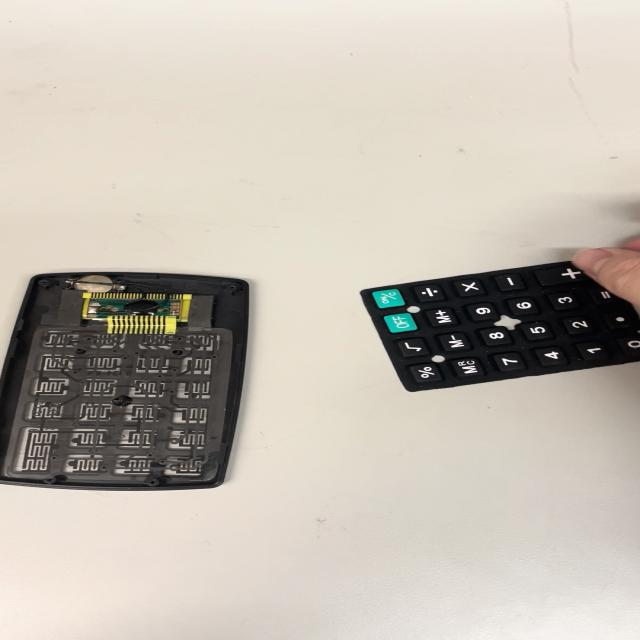front_panel: (0, 266, 276, 492)
number_pad: (351, 258, 640, 394)
